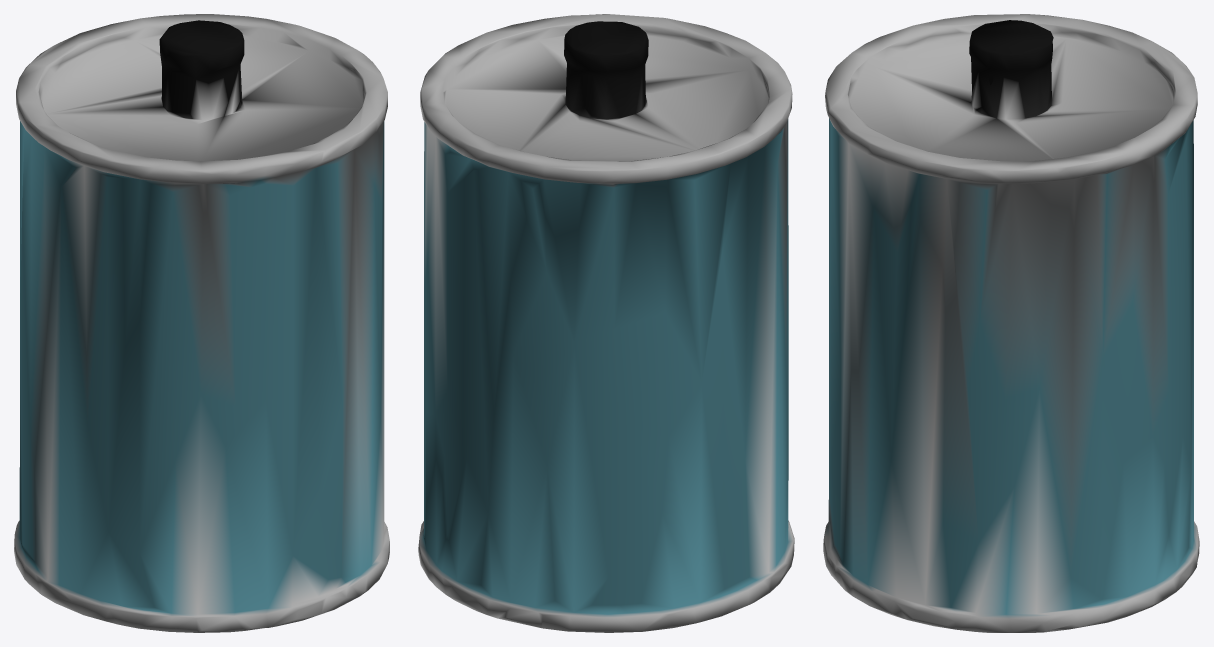
Rendered from gen3d-fuel-can-lod1.glb.
3 views of the same model, side by side, from view 1: azimuth 30°, elevation 25°; view 2: azimuth 150°, elevation 25°; view 3: azimuth 270°, elevation 25° (orthographic).
Parts seen in each view (by area): view 1: part_0; view 2: part_0; view 3: part_0.
Boxes of the visible parts, x1,y1,x2,y2 form: part_0: (14,14,389,632); part_0: (418,14,794,632); part_0: (823,14,1199,632).
Bounding box in the file's own units: 0.6584 × 0.9999 × 0.6584.
